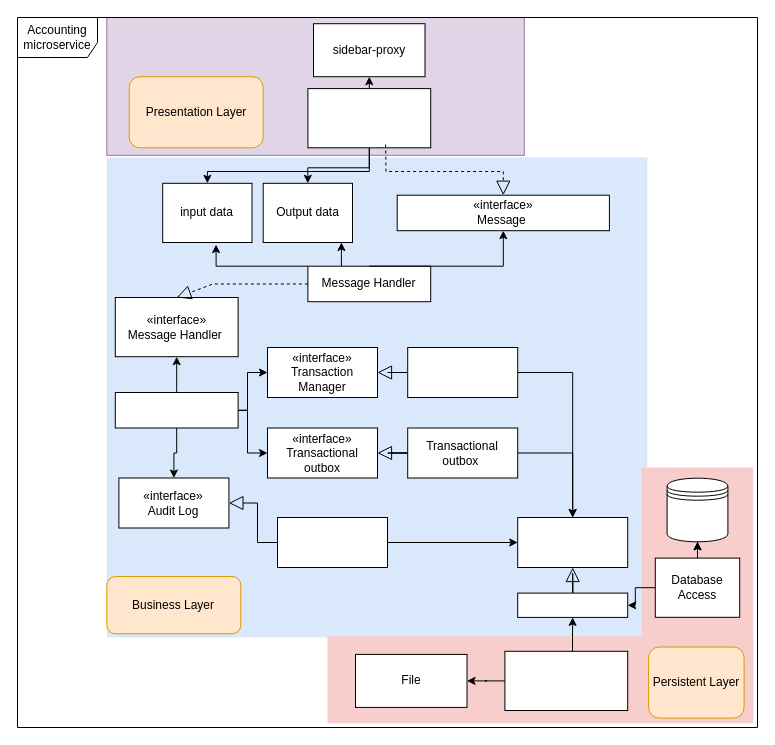
Image size: 775x745. Some labels were removed from this diagram. Here are the shapes that lost their labels. From the top down, the centre of each, then its label:
point 369,118: Service Comminucator
point 462,372: Transaction Manager
point 176,410: Accounting
point 697,509: DB
point 332,542: Logger
point 572,542: «interface» Data access DAO
point 572,604: Data access DAO
point 566,680: File Access
